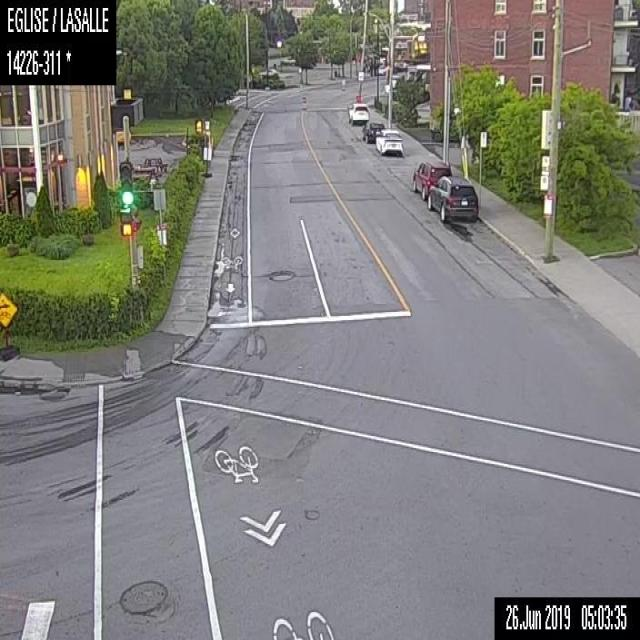vehicle: (427, 174, 477, 223), (410, 158, 449, 199), (373, 126, 404, 154), (360, 120, 384, 142), (347, 102, 369, 125)
